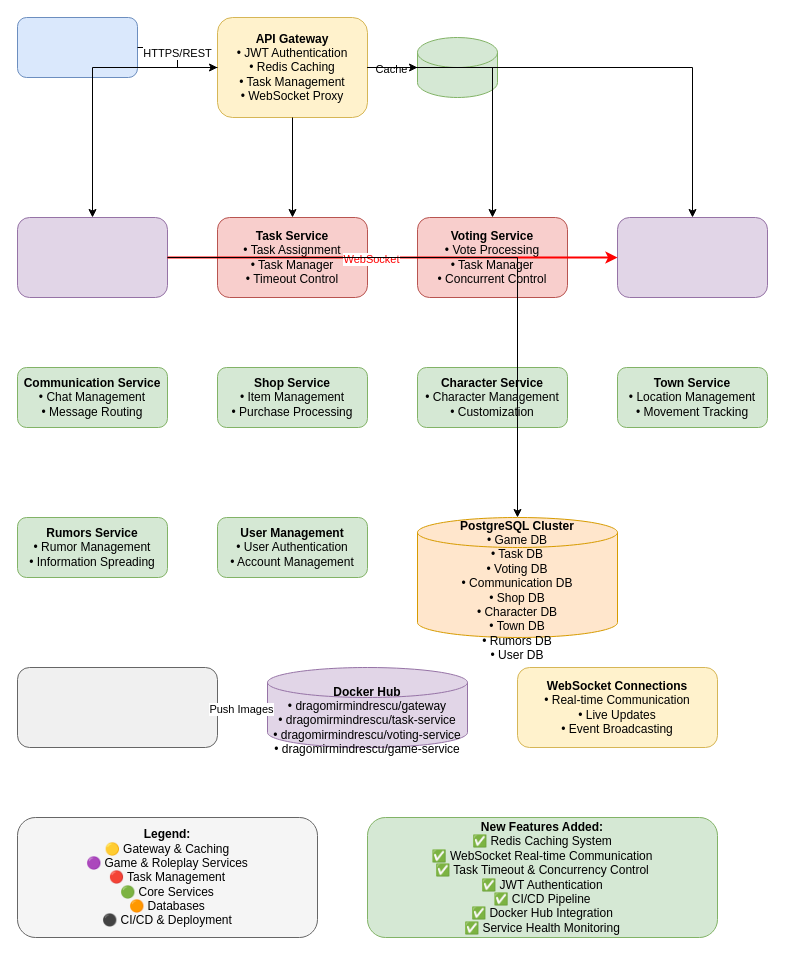
This 785x955 diagram has some shape labels left out. Each missing label, with the centre of its shape:
CI/CD Pipeline • GitHub Actions • Docker Hub • Auto-deployment • Version Tagging: the point at 117,707
Client (Web/Mobile): the point at 77,47
Game Service • Lobby Management • WebSocket Server • Real-time Updates: the point at 92,257
Redis Cache • GET Request Cache • Auth Token Cache: the point at 457,67
Roleplay Service • Action Management • WebSocket Broadcast • Real-time Events: the point at 692,257
